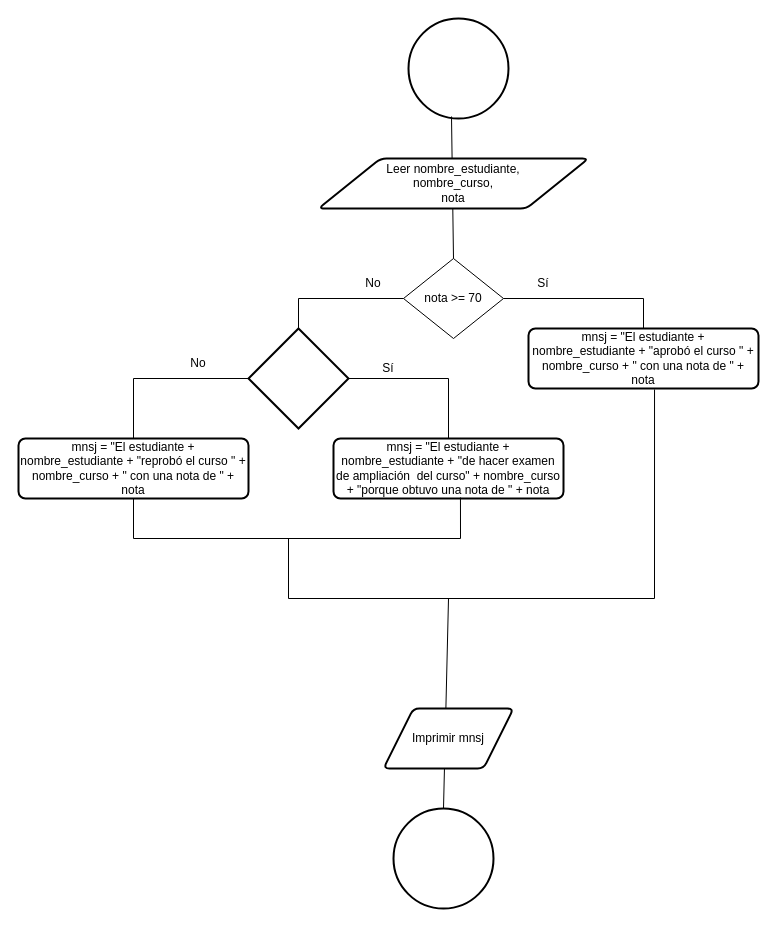
Some shapes in this 776 by 926 pixel diagram are drawn without their labels. Each missing label, with the box of its shape:
Fin: (392, 807, 494, 909)
Inicio: (407, 17, 509, 119)
nota >= 60: (247, 327, 349, 429)
